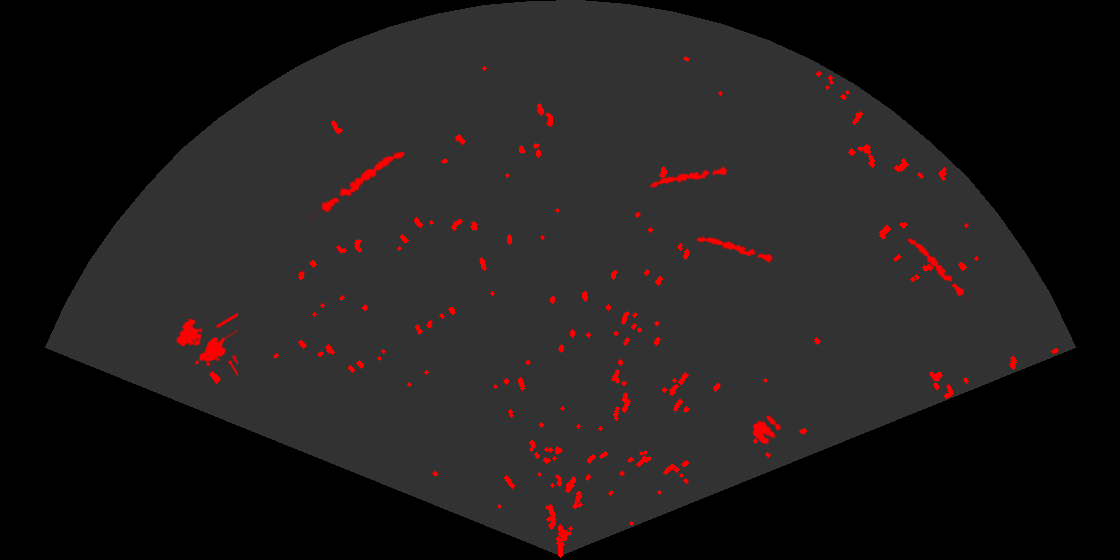ball: (751, 414, 783, 446)
cage: (175, 311, 238, 379)
chain: (308, 150, 407, 220), (906, 237, 972, 302), (694, 235, 778, 264), (648, 165, 728, 189)
